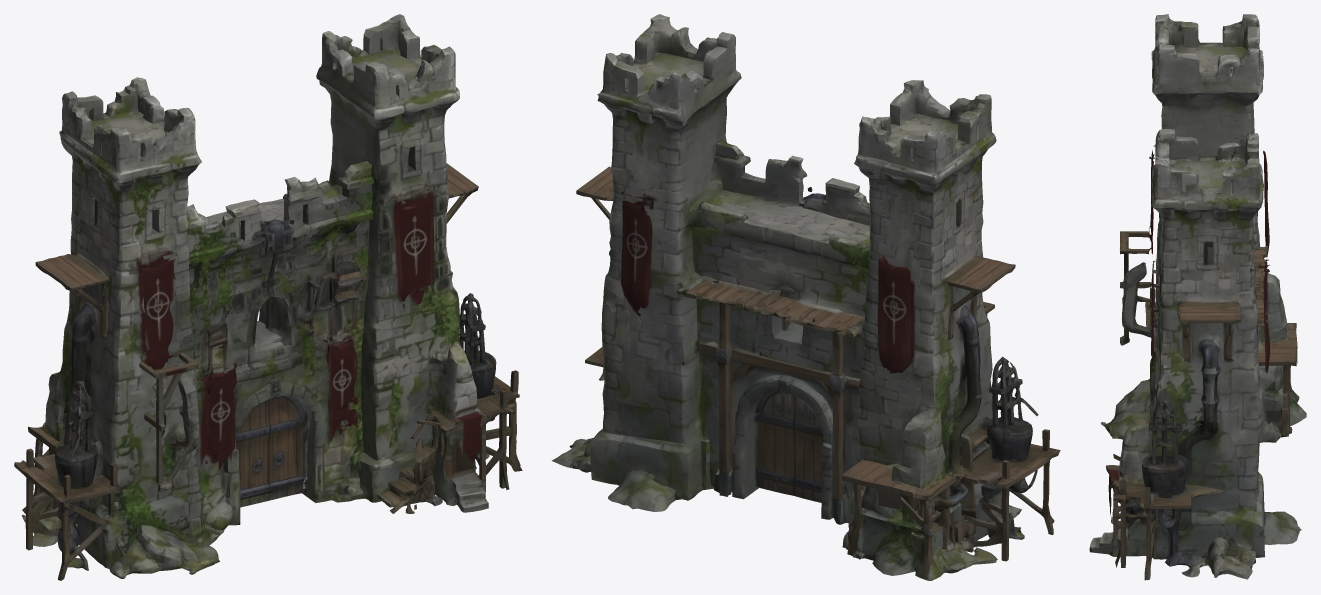
File: meadows_stronghold_gatehouse.glb
3 renders of one model, left to right at view 1: azimuth 30°, elevation 25°; view 2: azimuth 150°, elevation 25°; view 3: azimuth 270°, elevation 25°, orthographic. The views are drawn at different scales.
Parts seen in each view (by area): view 1: Mesh_0; view 2: Mesh_0; view 3: Mesh_0.
Boxes of the visible parts, x1,y1,x2,y2 form: Mesh_0: (14, 14, 522, 580); Mesh_0: (551, 14, 1060, 580); Mesh_0: (1089, 14, 1306, 580).
Size of the model in its own units: 1.87 by 1.67 by 0.8391.
1 material, 1 textured.
